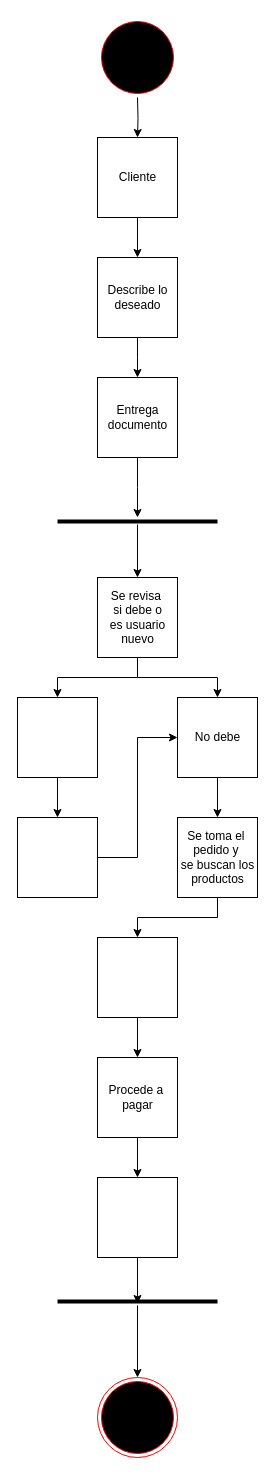
Image size: 275x1475. Some labels were removed from this diagram. Each missing label, with the box of its shape:
Se calcula el precio: (96, 936, 178, 1018)
Se entrega producto con fechas establecidas: (96, 1176, 178, 1258)
Se hace descripción de la multa y paga: (16, 816, 98, 898)
Si debe: (16, 696, 98, 778)
